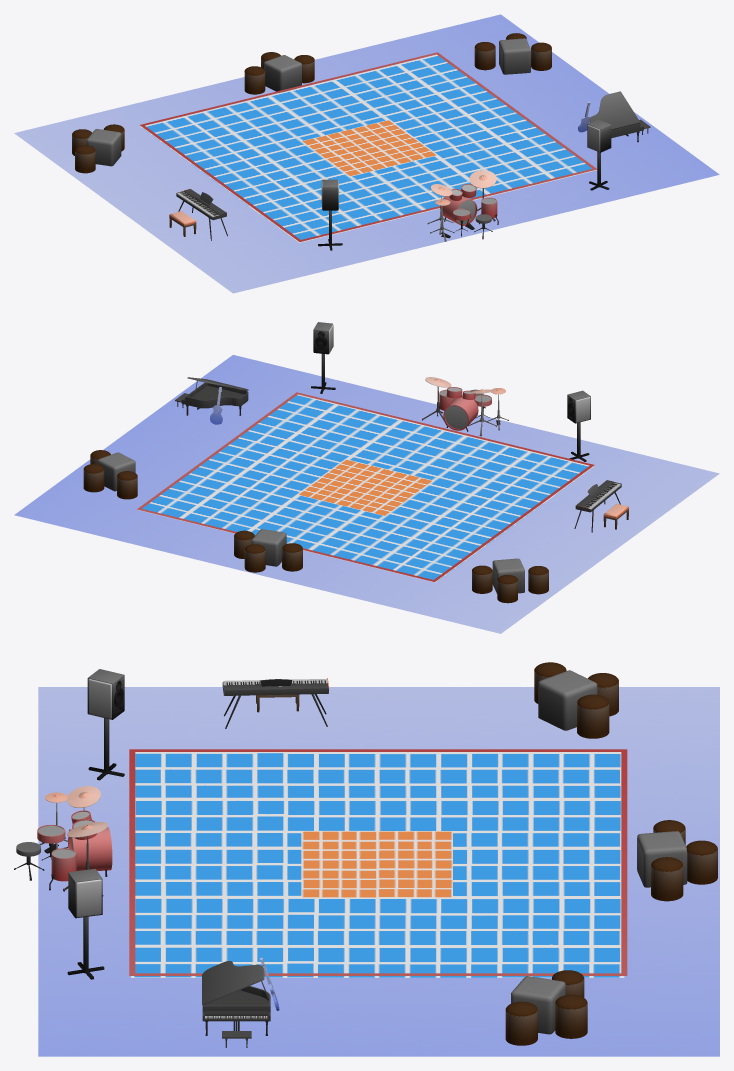
File: Unijam25Level.fbx
3 views of the same model, one above another, from view 1: azimuth 30°, elevation 25°; view 2: azimuth 150°, elevation 25°; view 3: azimuth 270°, elevation 25° (orthographic). The views are drawn at different scales.
Parts seen in each view (by area): view 1: Cube.006, Cube.012, Cube.011, Object_44.001, Cube.013, Cube.007, Cube.009, Cube.010, Cube.008, Cube.014, Piano.003, Cube.015 (+4 smaller); view 2: Cube.006, Cube.012, Cube.011, Cube.013, Object_44.001, Cube.007, Cube.015, Cube.014, Cube.009, Piano.003, Cube.010, Cube.008 (+7 smaller); view 3: Cube.006, Cube.012, Cube.011, Cube.013, Object_44.001, Cube.007, Cube.008, Cube.015, Cube.014, Piano.003, Cube.009, Cube.010 (+6 smaller).
Part boxes in pixels (left/top/right/bottom): Cube.006: left=14, top=14, right=719, bottom=293; Cube.012: left=141, top=54, right=596, bottom=242; Cube.011: left=302, top=120, right=436, bottom=176; Object_44.001: left=427, top=170, right=498, bottom=241; Cube.013: left=140, top=52, right=597, bottom=241; Cube.007: left=589, top=91, right=650, bottom=142; Cube.009: left=264, top=55, right=301, bottom=92; Cube.010: left=499, top=38, right=530, bottom=74; Cube.008: left=86, top=129, right=121, bottom=166; Cube.014: left=587, top=119, right=611, bottom=190; Piano.003: left=176, top=188, right=227, bottom=240; Cube.015: left=318, top=179, right=342, bottom=250; Cube.006: left=14, top=355, right=719, bottom=633; Cube.012: left=137, top=394, right=593, bottom=582; Cube.011: left=298, top=459, right=432, bottom=515; Cube.013: left=137, top=392, right=594, bottom=581; Object_44.001: left=422, top=377, right=508, bottom=436; Cube.007: left=175, top=377, right=248, bottom=415; Cube.015: left=567, top=390, right=590, bottom=461; Cube.014: left=311, top=322, right=335, bottom=393; Cube.009: left=251, top=529, right=286, bottom=566; Piano.003: left=574, top=480, right=621, bottom=532; Cube.010: left=97, top=452, right=135, bottom=491; Cube.008: left=492, top=558, right=524, bottom=593; Cube.006: left=38, top=687, right=719, bottom=1056; Cube.012: left=131, top=752, right=624, bottom=977; Cube.011: left=301, top=831, right=452, bottom=897; Cube.013: left=129, top=749, right=627, bottom=975; Object_44.001: left=14, top=786, right=112, bottom=896; Cube.007: left=202, top=961, right=270, bottom=1047; Cube.008: left=538, top=670, right=597, bottom=730; Cube.015: left=87, top=669, right=124, bottom=780; Cube.014: left=67, top=868, right=104, bottom=979; Piano.003: left=222, top=678, right=328, bottom=728; Cube.009: left=637, top=831, right=687, bottom=887; Cube.010: left=511, top=976, right=565, bottom=1034.
Bounding box in the file's own units: 1088 × 144 × 878.
15 materials, 15 textured.
